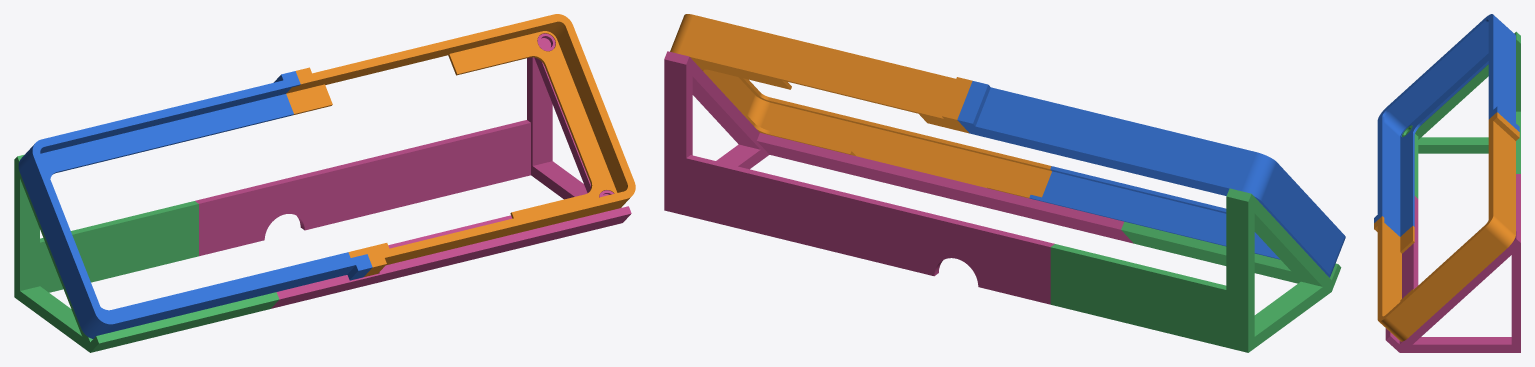
File: assemblage_xeneon.glb
The picture shows the model from 3 angles, left to right: view 1: azimuth 30°, elevation 25°; view 2: azimuth 150°, elevation 25°; view 3: azimuth 270°, elevation 25°; orthographic projection. The views are drawn at different scales.
Parts seen in each view (by area): view 1: pied_droite, coque_gauche, coque_droite, pied_gauche; view 2: pied_droite, coque_gauche, coque_droite, pied_gauche; view 3: coque_gauche, coque_droite, pied_droite, pied_gauche.
Boxes of the visible parts, x1,y1,x2,y2 form: pied_droite: (195, 33, 631, 308); coque_gauche: (18, 71, 372, 338); coque_droite: (286, 14, 635, 276); pied_gauche: (14, 154, 279, 352); pied_droite: (664, 51, 1133, 304); coque_gauche: (957, 81, 1345, 277); coque_droite: (670, 14, 1051, 198); pied_gauche: (1050, 188, 1341, 352); coque_gauche: (1374, 14, 1519, 236); coque_droite: (1374, 112, 1519, 341); pied_droite: (1385, 174, 1520, 352); pied_gauche: (1402, 31, 1520, 198).
Size of the model in its own units: 0.3767 by 0.115 by 0.1114.
